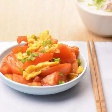fanqiechaojidan: (1, 31, 87, 88)
